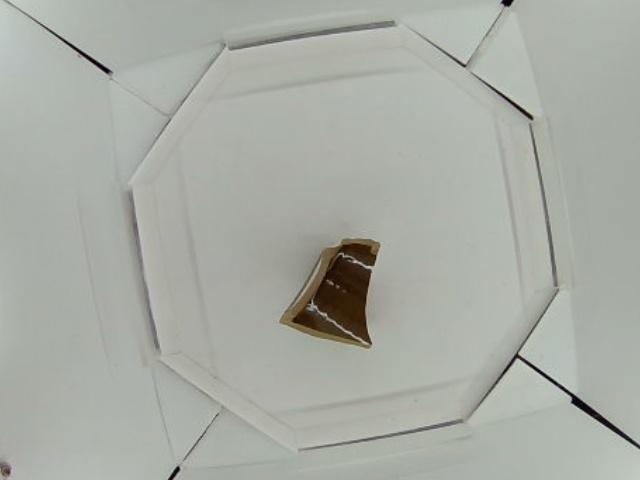China: (278, 236, 380, 346)
